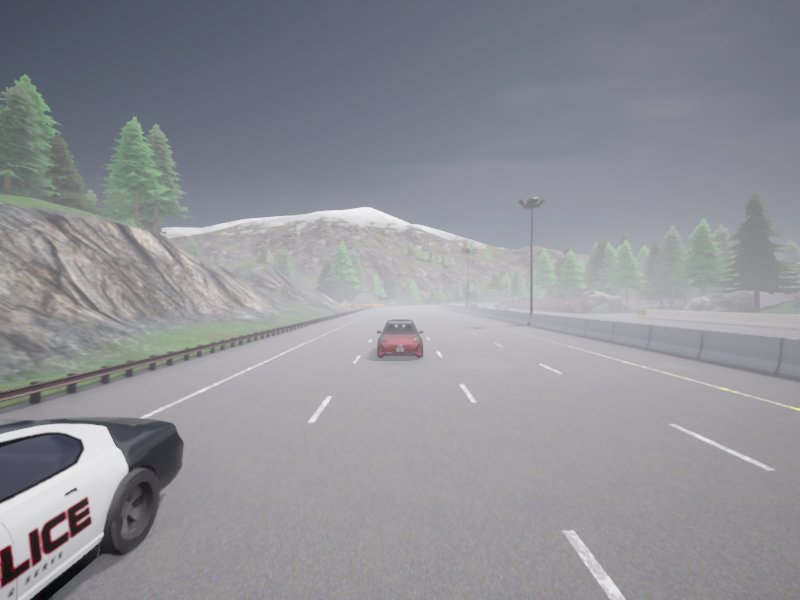vehicle: (0, 417, 183, 599), (376, 319, 423, 358), (494, 303, 506, 309), (465, 300, 472, 305), (482, 304, 487, 308), (468, 304, 476, 306), (499, 301, 502, 302)
